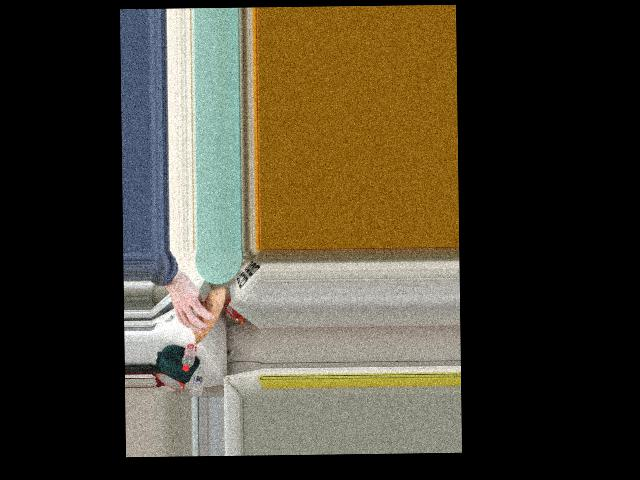sweet_potato: (183, 296, 224, 340)
